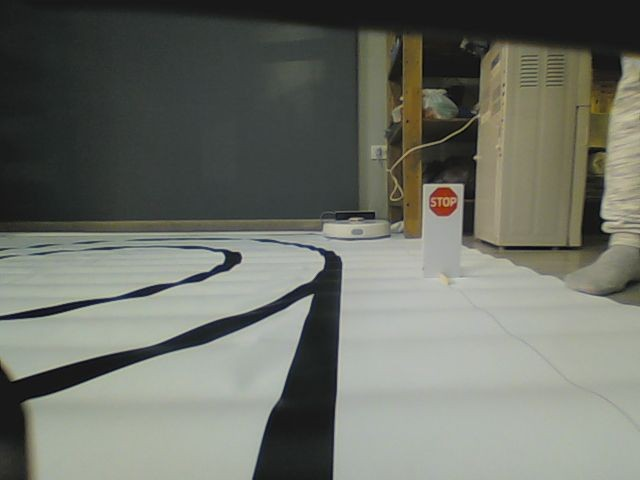Stop: (427, 186, 458, 218)
